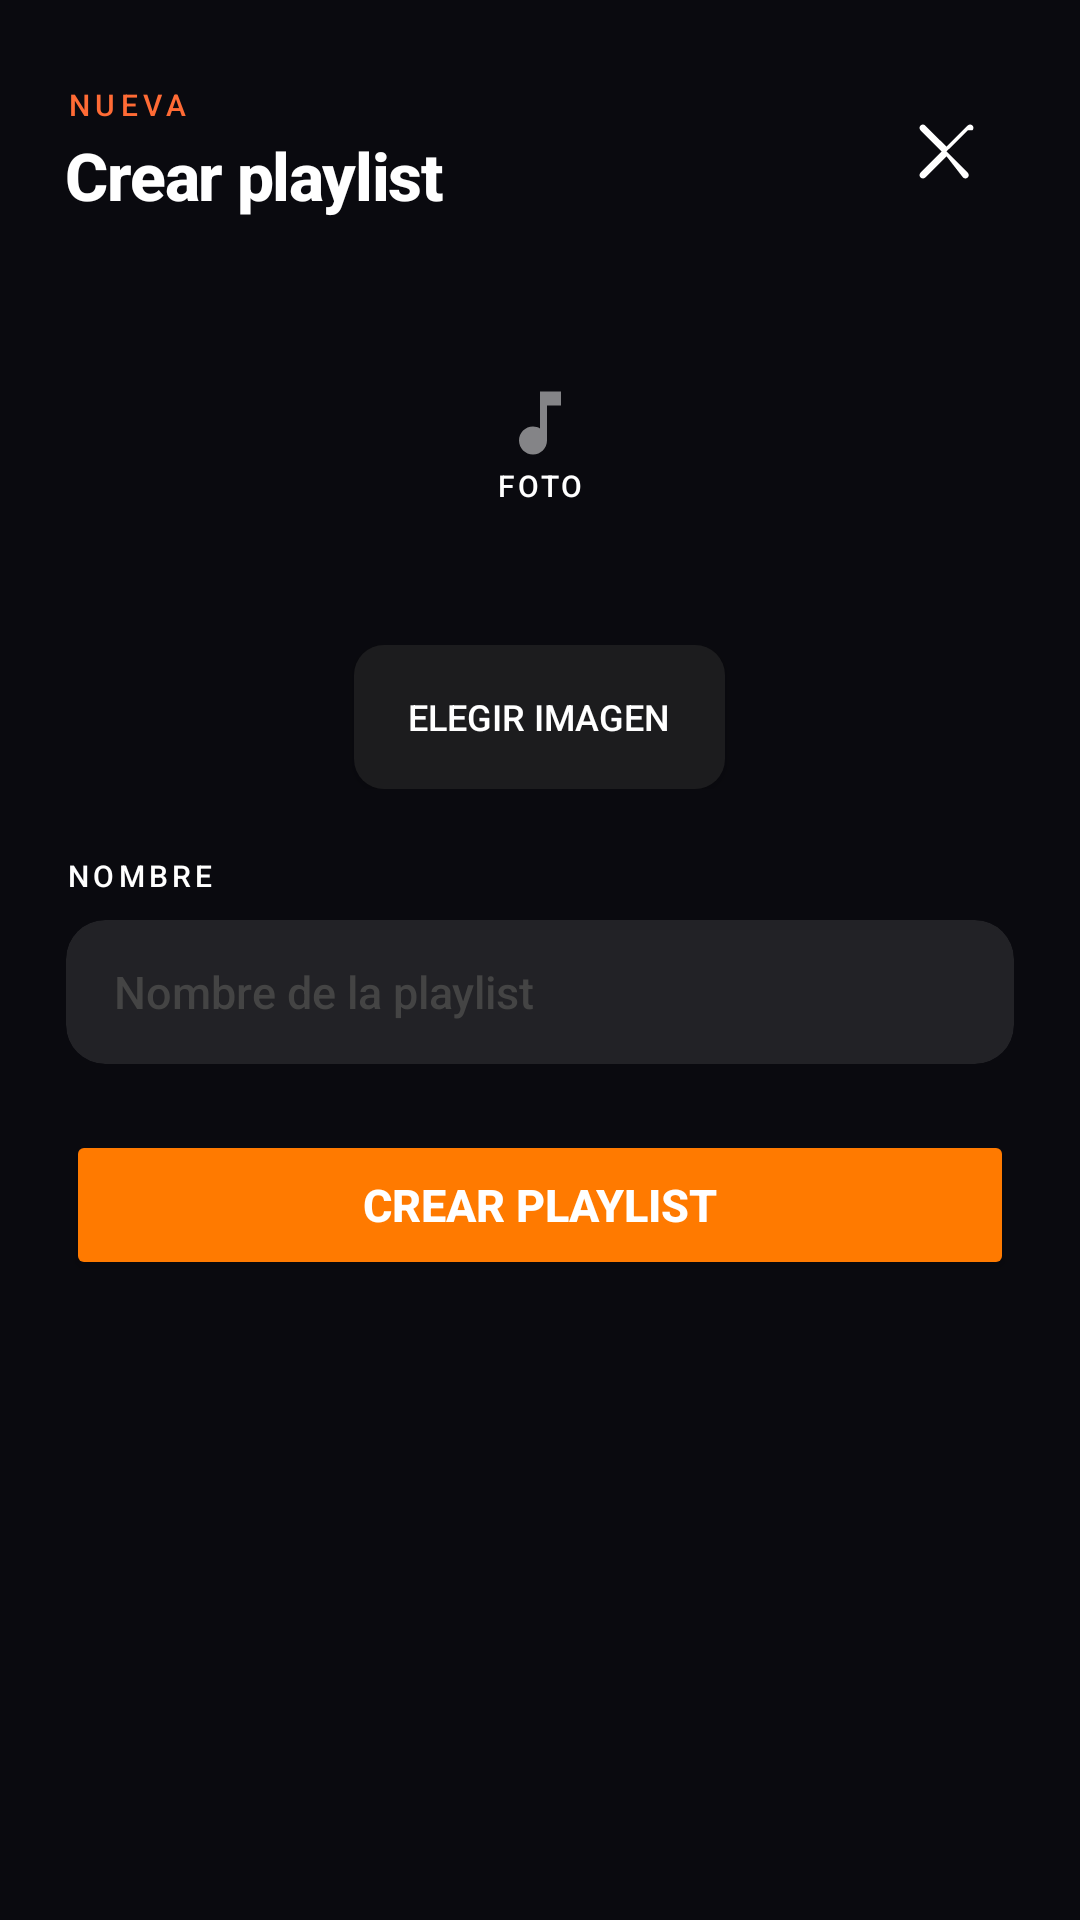

Screen size 1080 x 1920. Icon name, then its box in pixels as Rect(x1, y1, x2, y2):
close: Rect(919, 124, 974, 179)
music note: Rect(519, 391, 561, 455)
